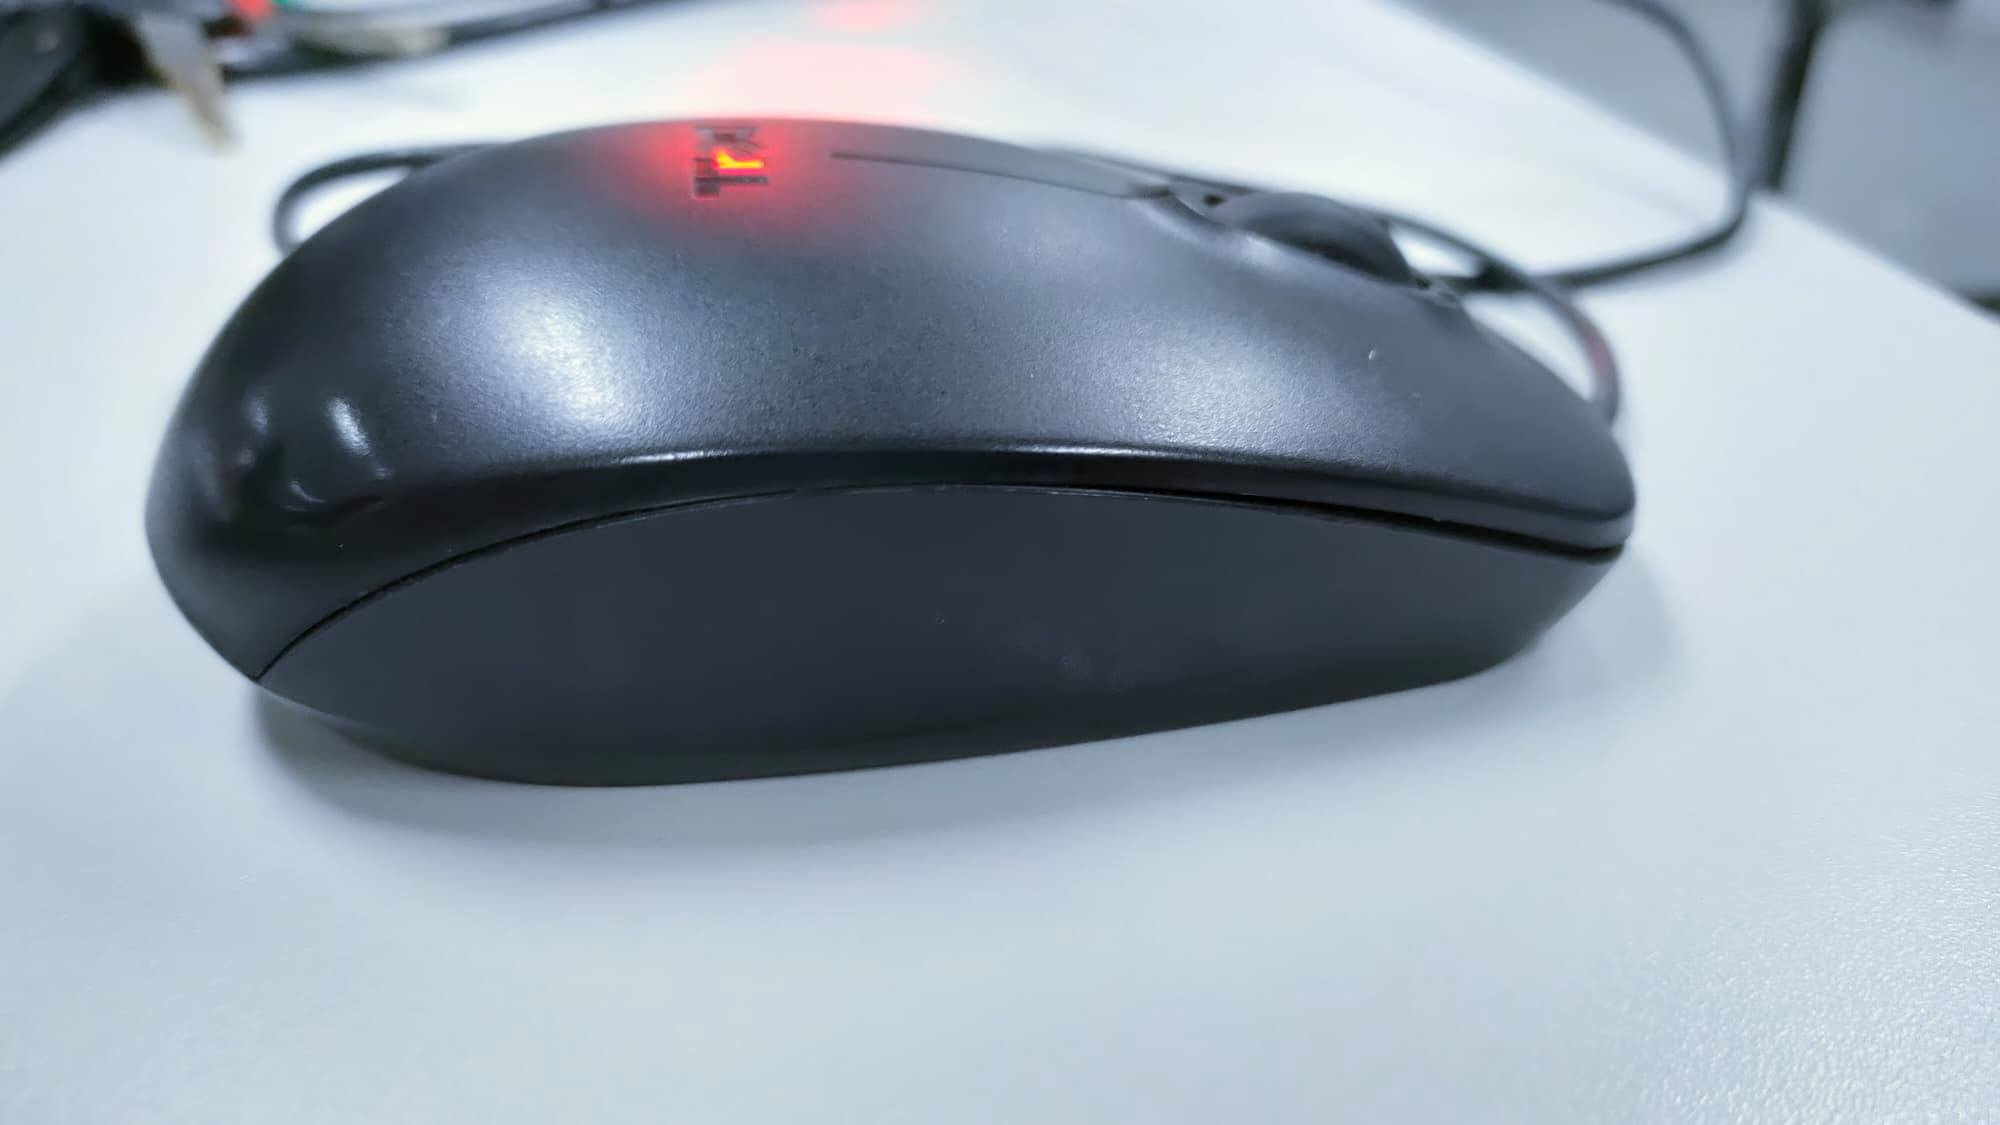mouse: (130, 89, 1665, 821)
